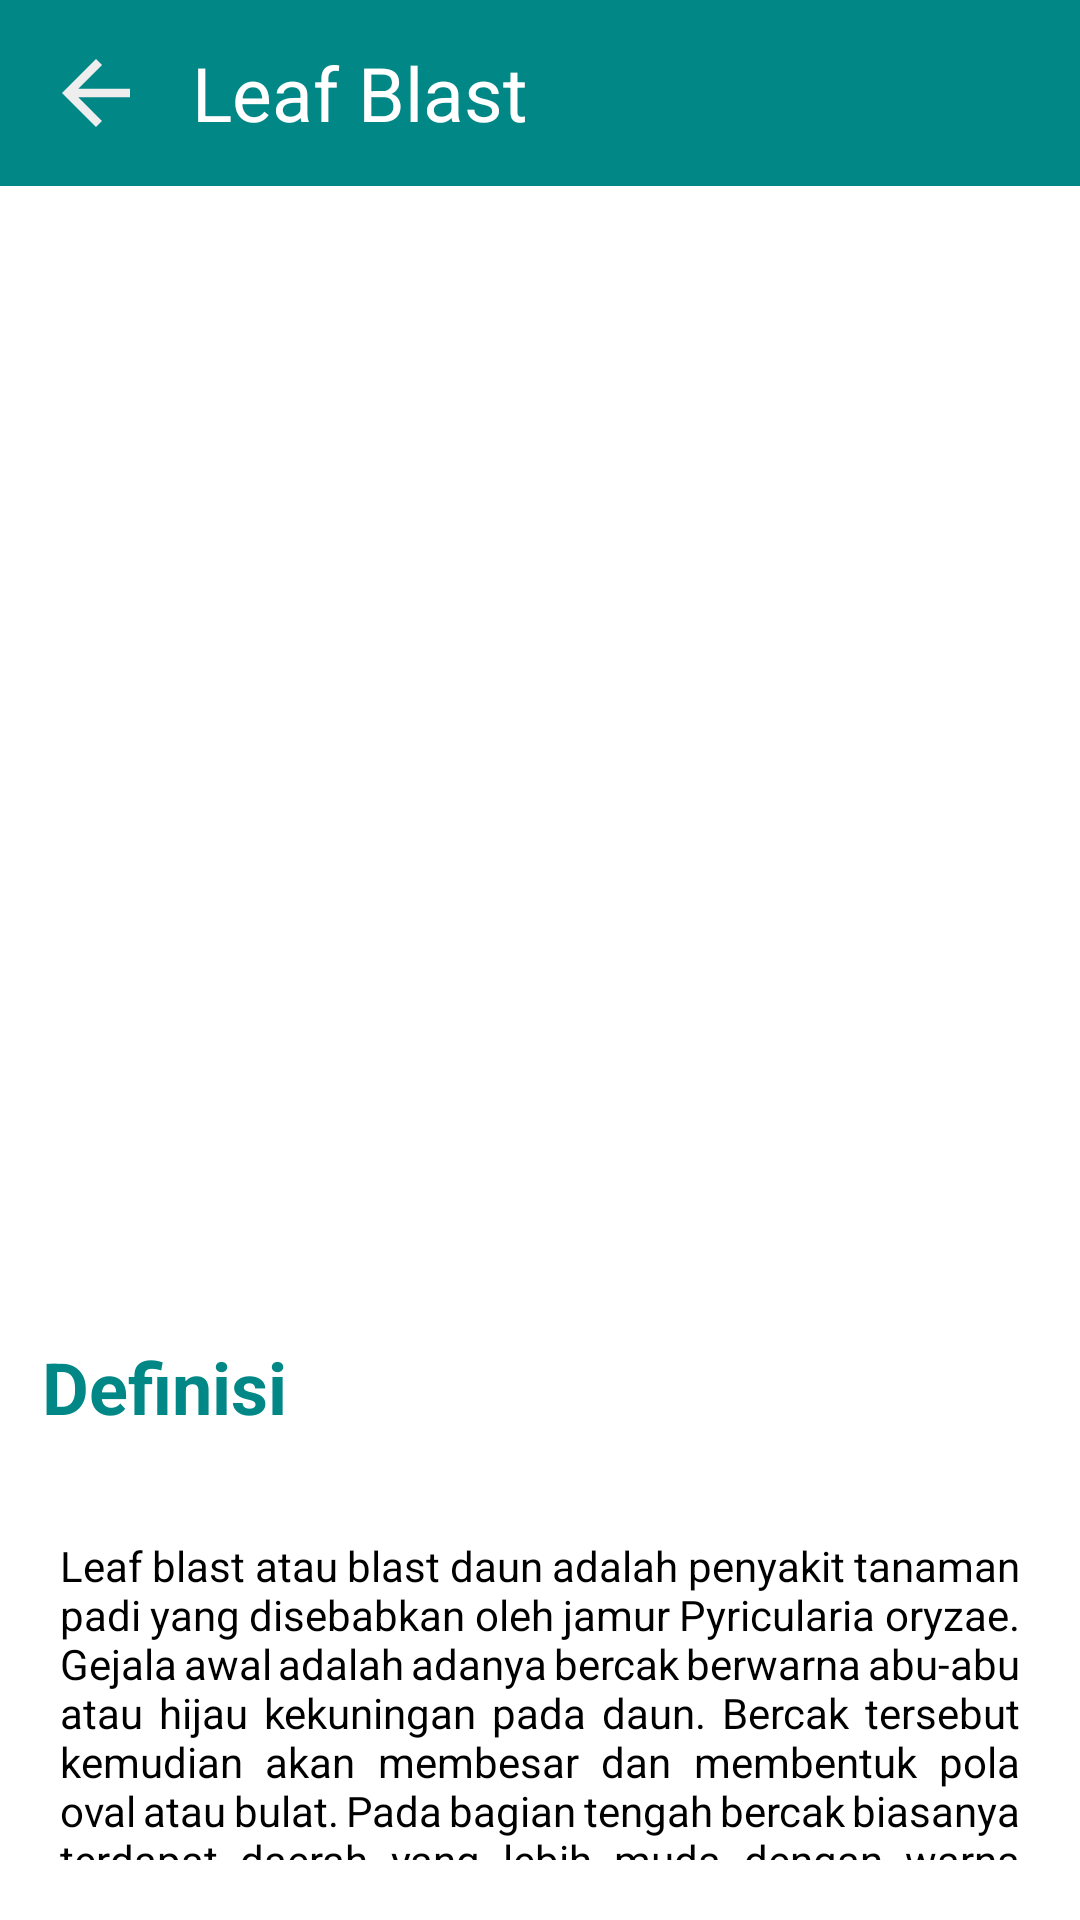

Locate icon controls on the screen. Image size 1080x1920, boxes as (x1,y1,x2,y2).
back: (62,59,130,127)
